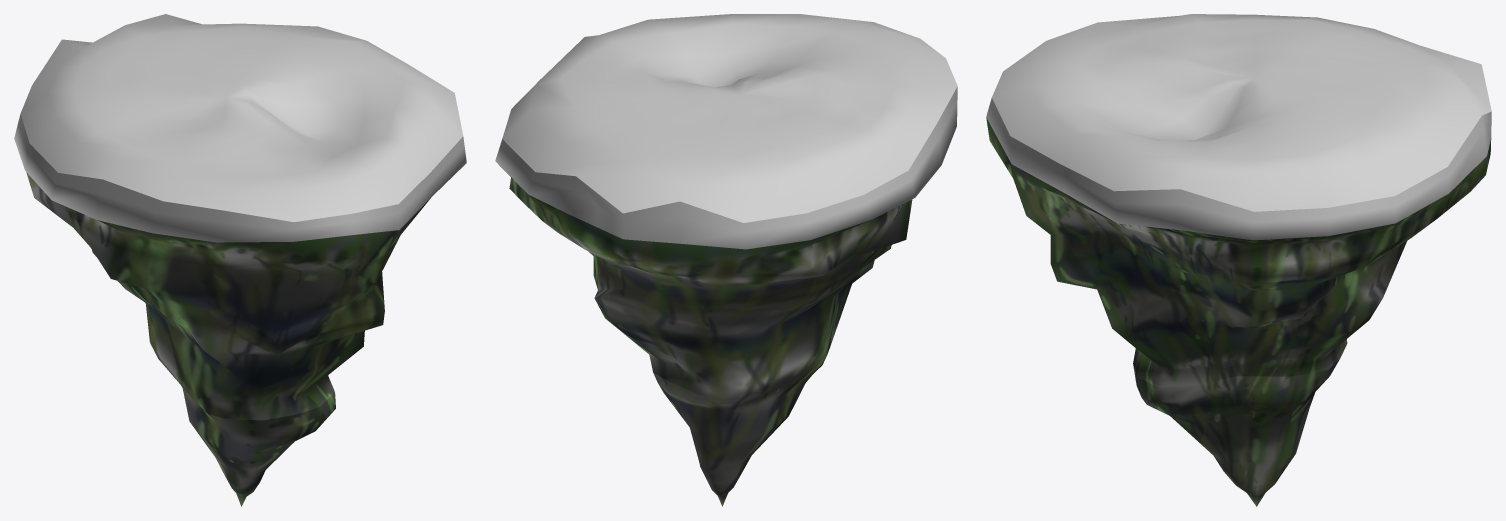
File: islandflatwpool.obj
3 views of the same model, side by side, from view 1: azimuth 30°, elevation 25°; view 2: azimuth 150°, elevation 25°; view 3: azimuth 270°, elevation 25° (orthographic).
Parts seen in each view (by area): view 1: IslandLowP1; view 2: IslandLowP1; view 3: IslandLowP1.
Boxes of the visible parts, <box> form: IslandLowP1: <box>14,14,466,506</box>; IslandLowP1: <box>495,14,957,506</box>; IslandLowP1: <box>986,14,1491,506</box>.
Bounding box in the file's own units: 50.18 × 52.53 × 56.73.
